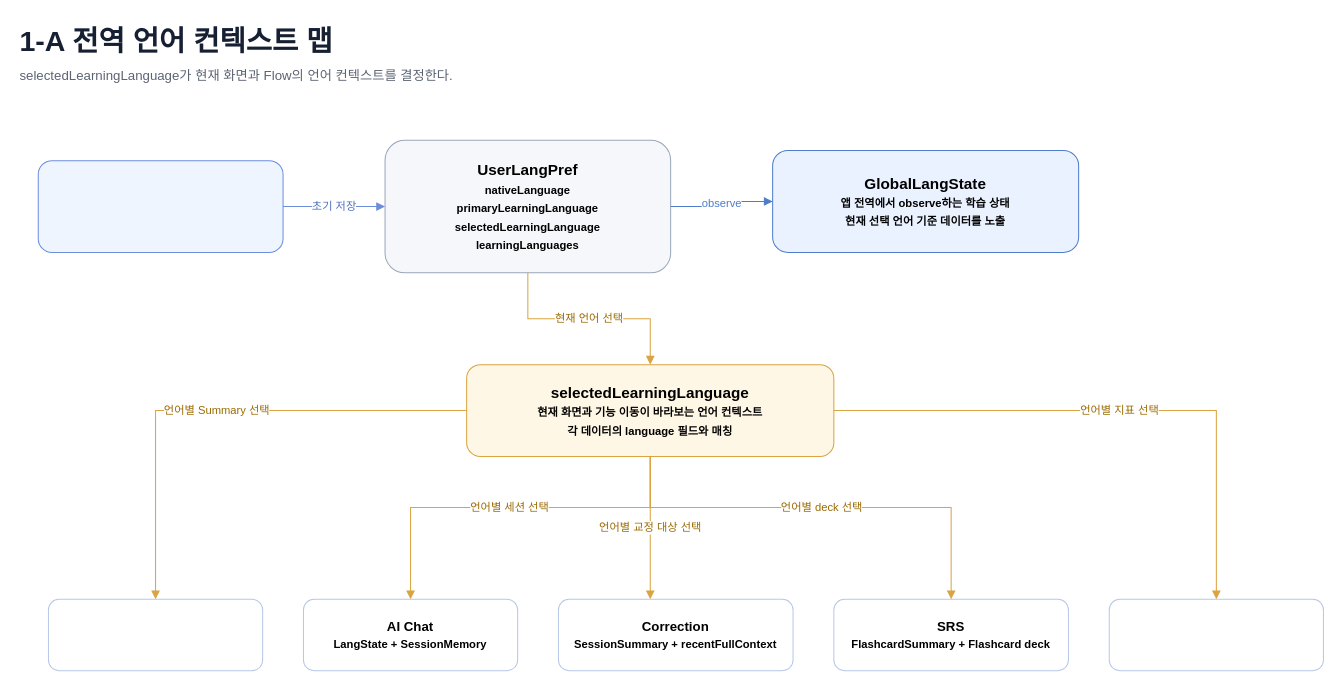
This 1341x689 diagram has some shape labels left out. Here are the shapes that lost their labels. From the top down, the centre of each, then its label:
At point (160, 206): "Onboarding primaryLearningLanguage 설정 selectedLearningLanguage 초기화".
At point (155, 634): "Dashboard DashSummary[selectedLanguage]".
At point (1215, 634): "Statistics LangState + Statistics".
